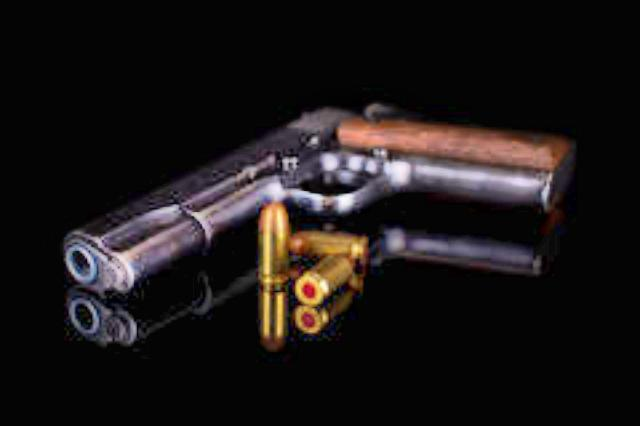pistol: (61, 96, 578, 294)
